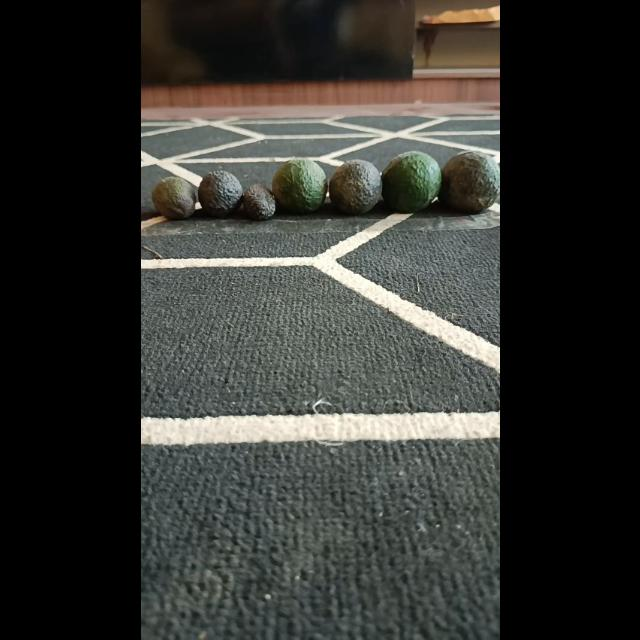Primera: (438, 150, 500, 212), (379, 151, 441, 213), (270, 158, 328, 214), (328, 158, 382, 214)
Segunda: (196, 170, 244, 218), (150, 176, 197, 220)
Tercera: (239, 183, 275, 221)
